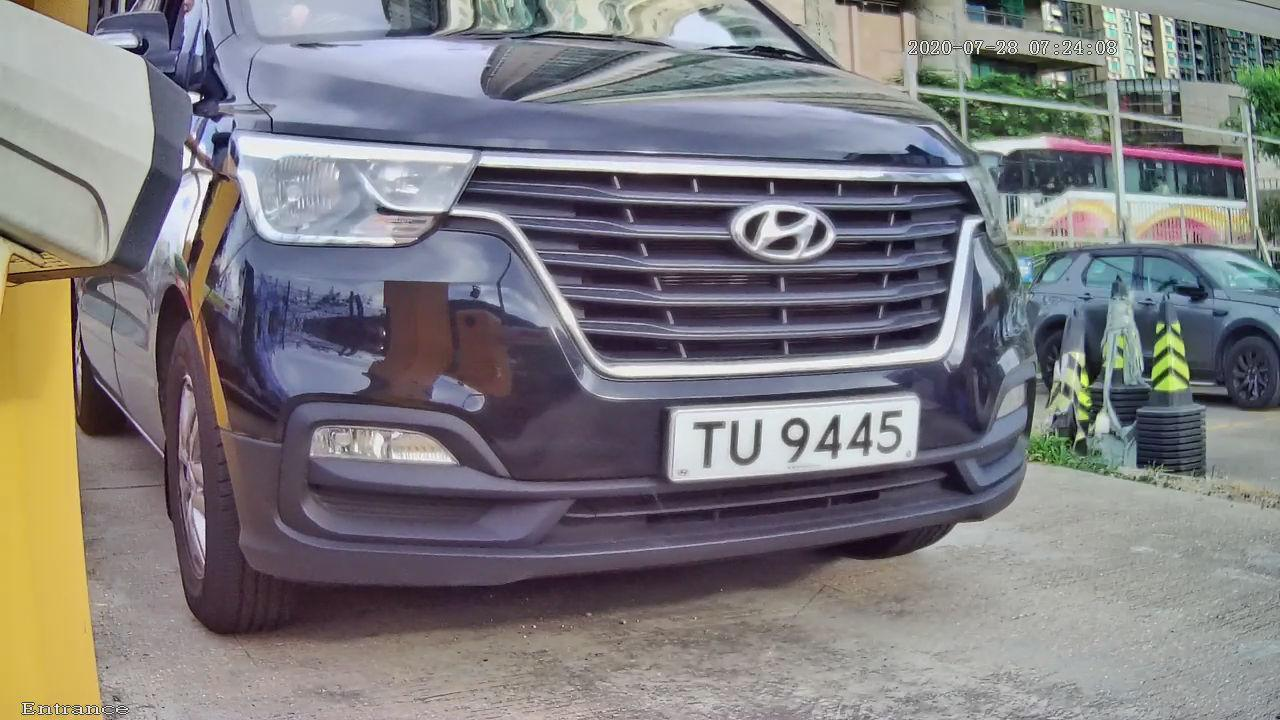privatecar: (52, 1, 1063, 614)
